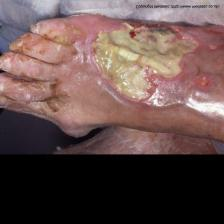Wound: (95, 17, 205, 110)
